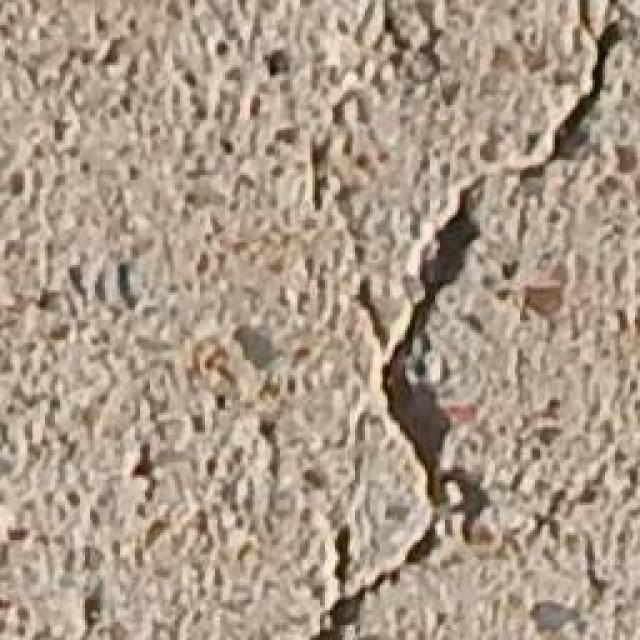concrete-crack: (287, 1, 640, 640)
